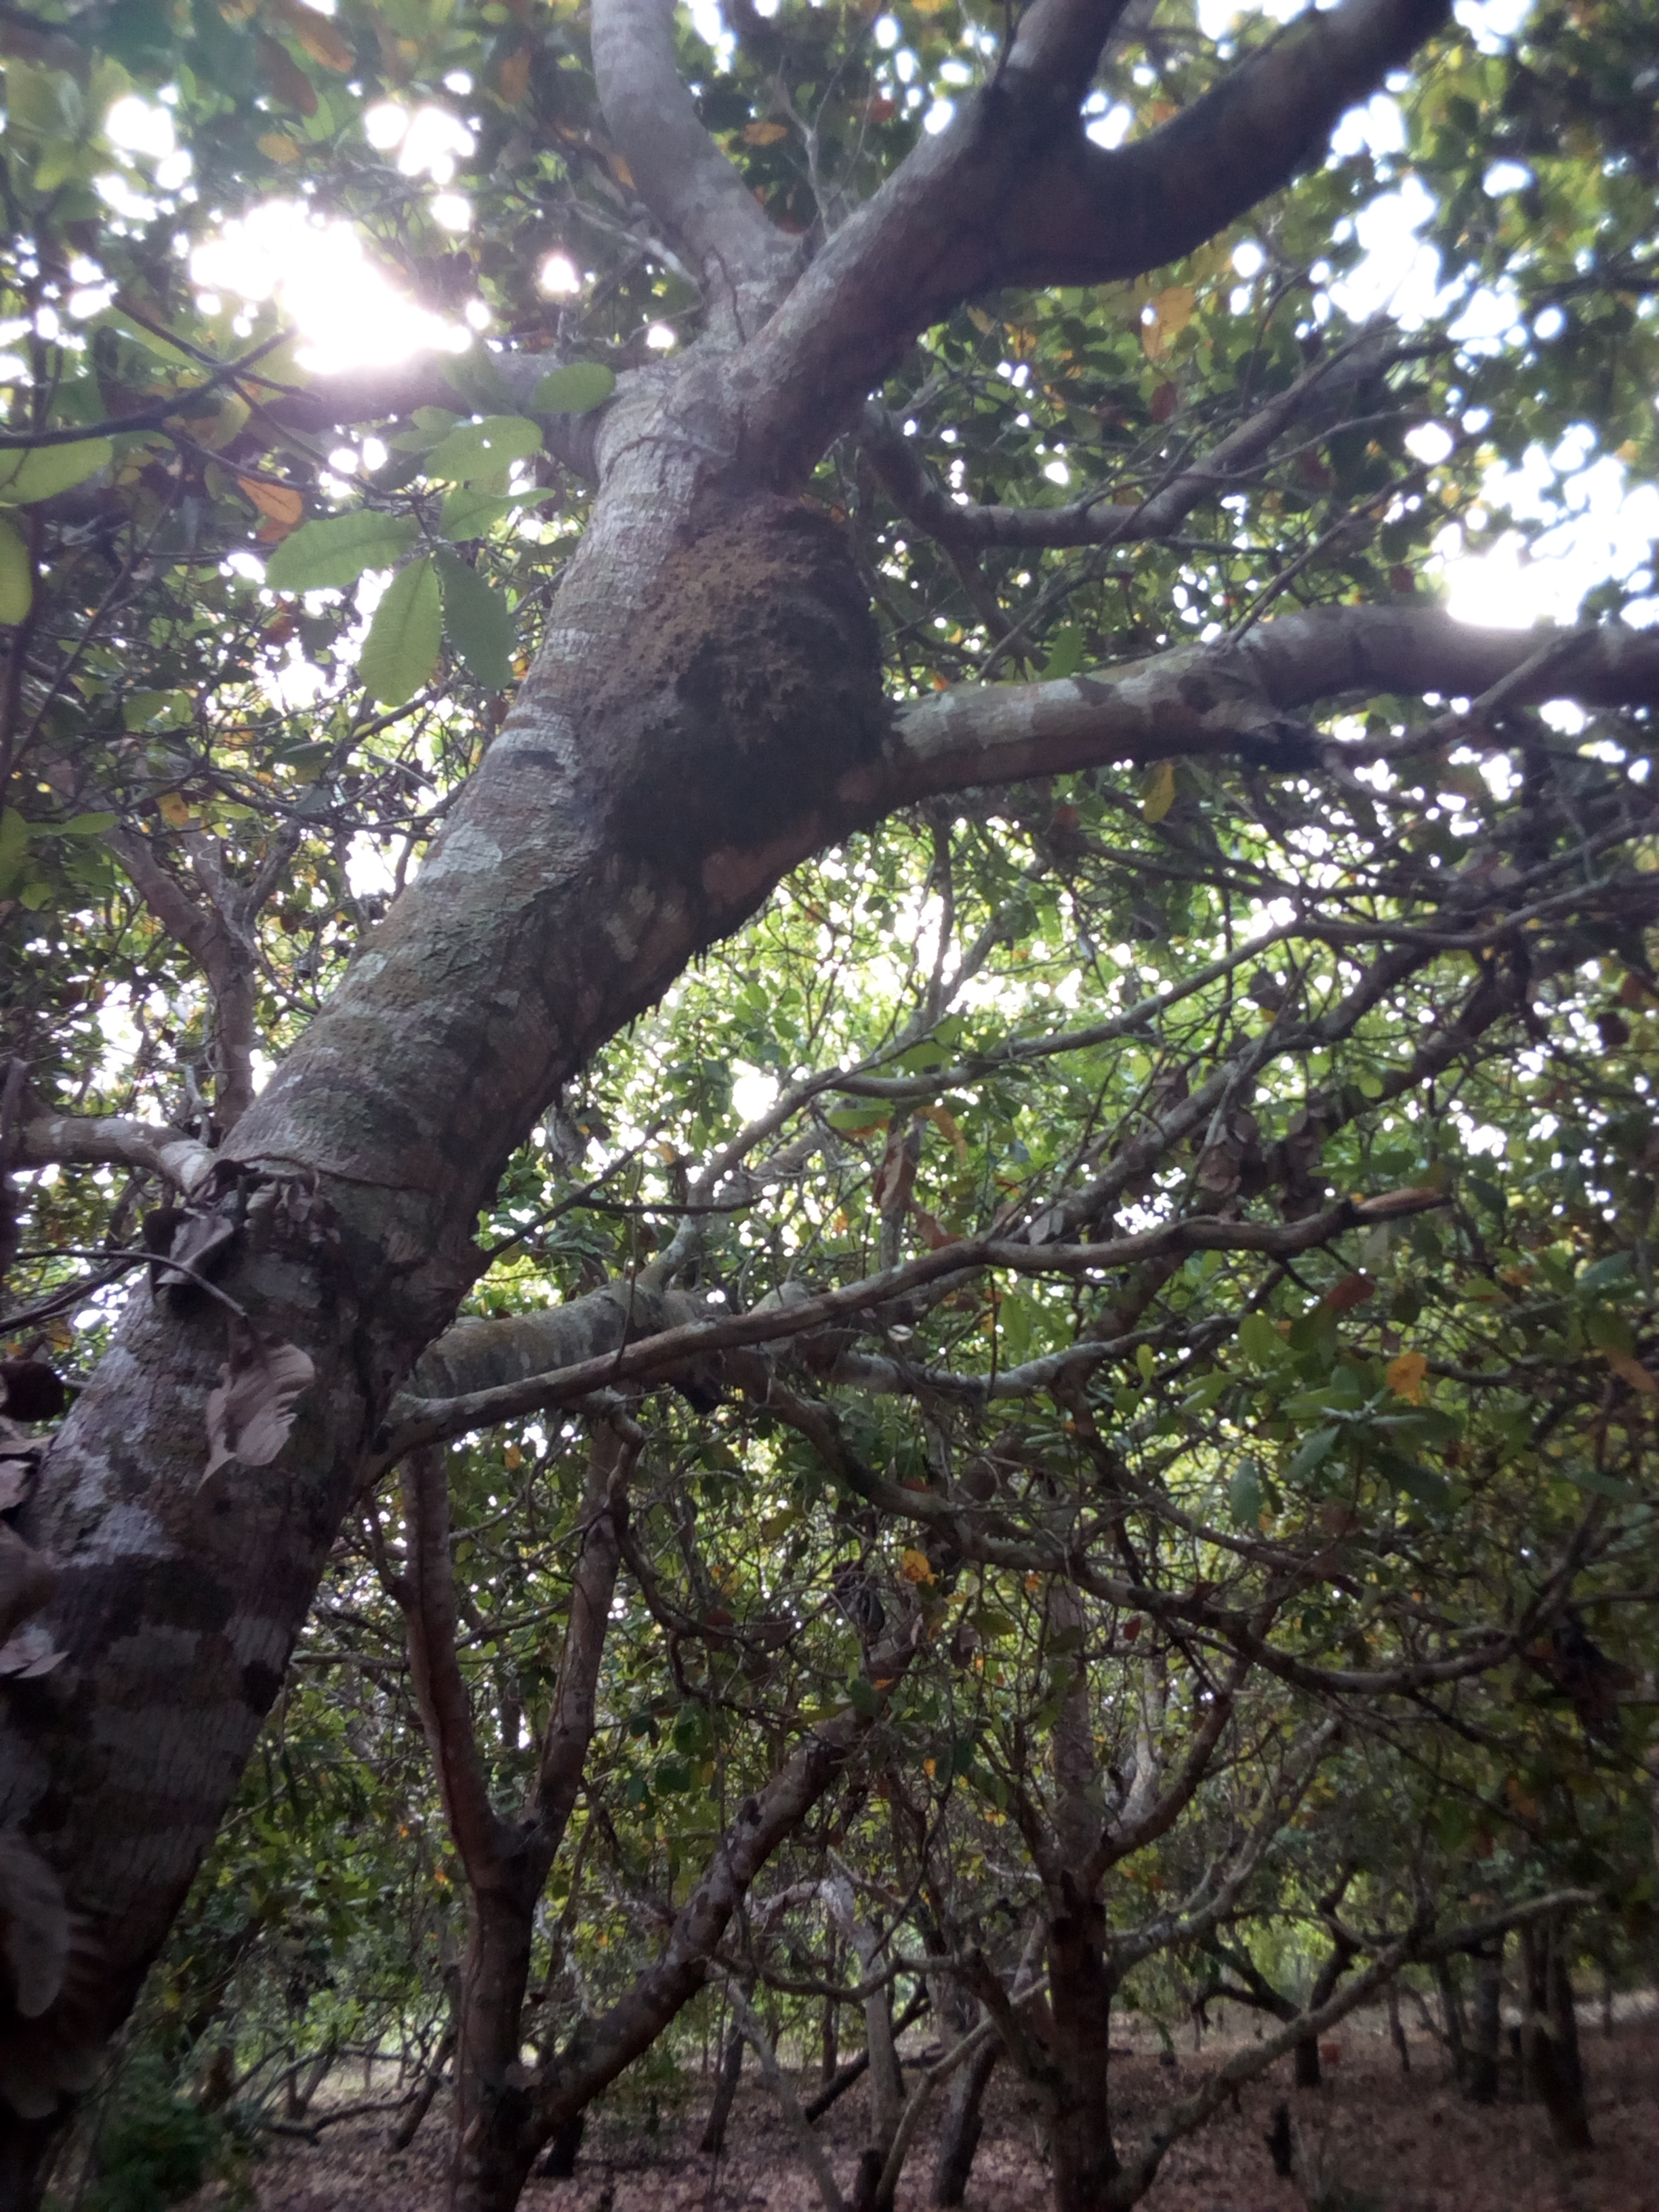Termites: (589, 489, 911, 848)
